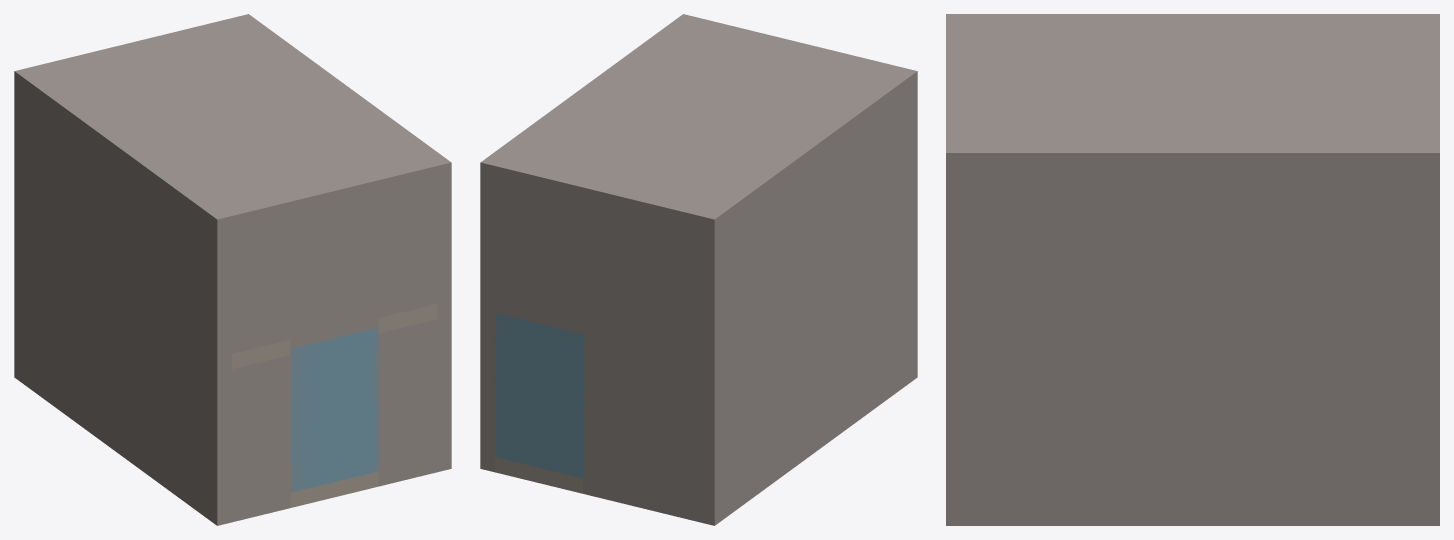
The model's file is creek-narrows.glb.
3 renders of one model, left to right at view 1: azimuth 30°, elevation 25°; view 2: azimuth 150°, elevation 25°; view 3: azimuth 270°, elevation 25°, orthographic. The views are drawn at different scales.
Visible parts, largest first — view 1: rock_18, plug_creek_south, rock_6, rock_1, rock_15, rock_10, rock_9, rock_7, rock_8, water_2, water_3, water_5 (+10 smaller); view 2: rock_18, rock_1, rock_10, rock_6, water_1, plug_rill_north, rock_15, rock_4, rock_3, rock_5, rock_2, rock_12 (+6 smaller); view 3: rock_2, rock_18, rock_11.
Part boxes in pixels (box(x1,y1,x2,y2)): rock_18: box(14, 14, 451, 234); plug_creek_south: box(232, 196, 436, 353); rock_6: box(141, 302, 231, 525); rock_1: box(14, 209, 90, 432); rock_15: box(141, 179, 231, 357); rock_10: box(14, 86, 90, 264); rock_9: box(232, 355, 290, 522); rock_7: box(407, 319, 436, 479); rock_8: box(378, 326, 407, 486); water_2: box(319, 334, 348, 485); water_3: box(290, 341, 319, 492); water_5: box(349, 327, 378, 478); rock_18: box(480, 14, 917, 234); rock_1: box(583, 302, 790, 525); rock_10: box(583, 179, 790, 357); rock_6: box(841, 209, 917, 432); water_1: box(495, 313, 582, 478); plug_rill_north: box(495, 196, 582, 325); rock_15: box(841, 86, 917, 264); rock_4: box(807, 277, 824, 457); rock_3: box(790, 289, 807, 469); rock_5: box(824, 265, 841, 444); rock_2: box(480, 300, 494, 472); rock_12: box(790, 167, 807, 301); rock_2: box(946, 321, 1439, 525); rock_18: box(946, 14, 1439, 171); rock_11: box(946, 171, 1439, 320).
Size of the model in its own units: 8 by 10 by 12.
